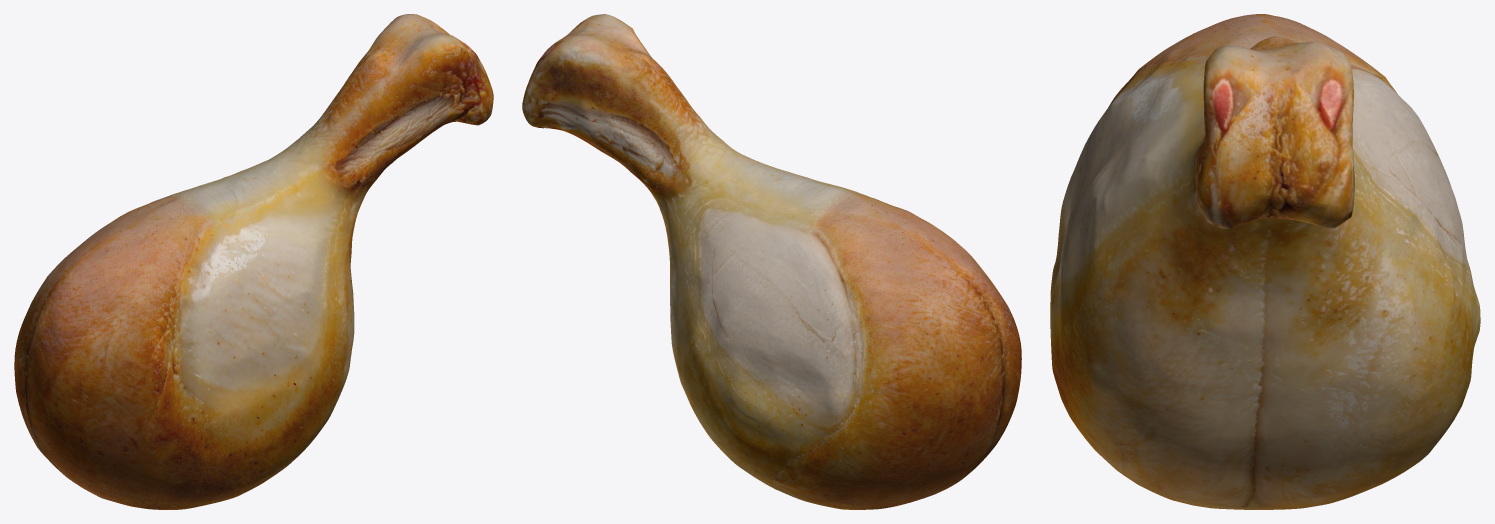
File: chiken_legs.glb
The picture shows the model from 3 angles, left to right: view 1: azimuth 30°, elevation 25°; view 2: azimuth 150°, elevation 25°; view 3: azimuth 270°, elevation 25°; orthographic projection. The views are drawn at different scales.
Visible parts, largest first — view 1: Mesh_0; view 2: Mesh_0; view 3: Mesh_0.
Boxes of the visible parts, box(x1,y1,x2,y2) form: Mesh_0: box(14, 14, 493, 509); Mesh_0: box(522, 14, 1021, 509); Mesh_0: box(1050, 14, 1480, 509).
Bounding box in the file's own units: 1.2 × 1.02 × 0.6253.
Materials: 1 (1 with a texture image).
